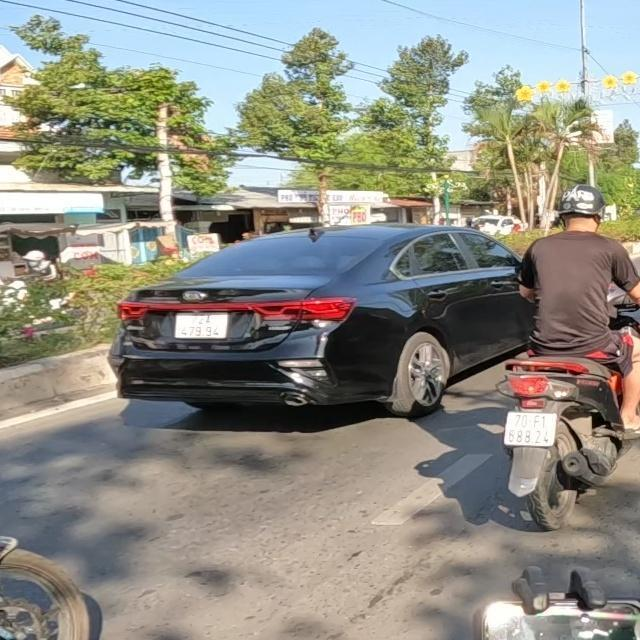car: (101, 220, 535, 430)
motorcycle: (482, 336, 640, 531)
plate: (499, 406, 563, 454), (169, 303, 227, 352)
